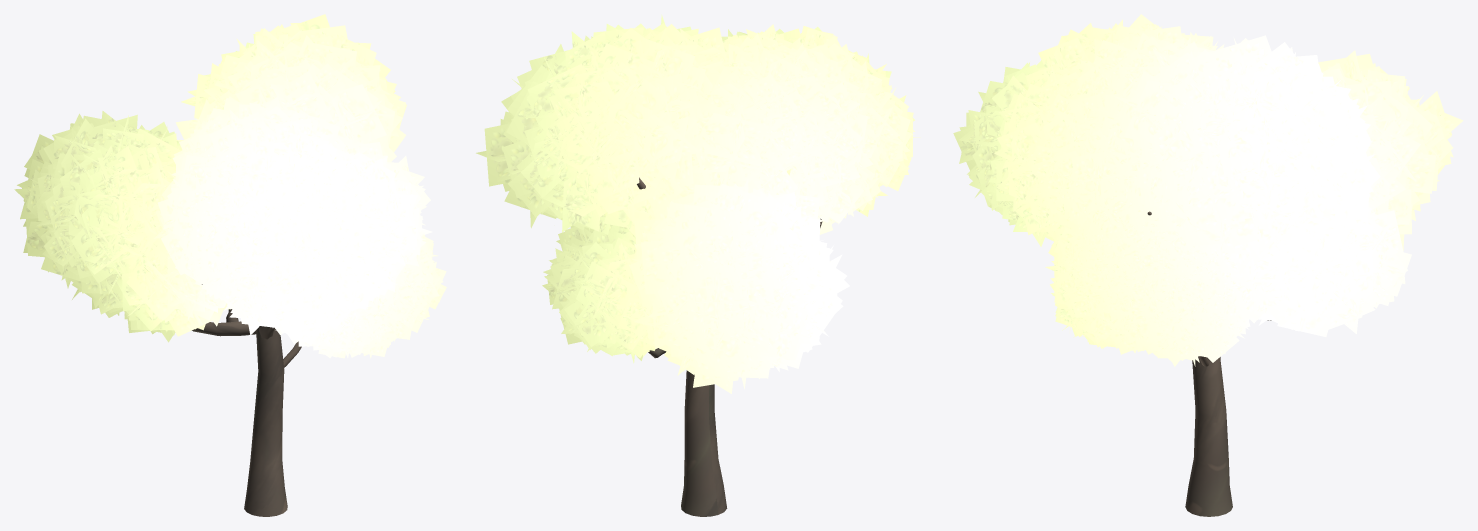
File: SM_Tree_02.fbx
3 renders of one model, left to right at view 1: azimuth 30°, elevation 25°; view 2: azimuth 150°, elevation 25°; view 3: azimuth 270°, elevation 25°, orthographic. The views are drawn at different scales.
Visible parts, largest first — view 1: SM_Tree_02_LOD0; view 2: SM_Tree_02_LOD0; view 3: SM_Tree_02_LOD0.
Boxes of the visible parts, x1=… form: SM_Tree_02_LOD0: x1=14, y1=14, x2=446, y2=516; SM_Tree_02_LOD0: x1=476, y1=14, x2=920, y2=516; SM_Tree_02_LOD0: x1=953, y1=14, x2=1463, y2=516.
Bounding box in the file's own units: 946 × 1138 × 1195.
2 materials, 1 textured.
